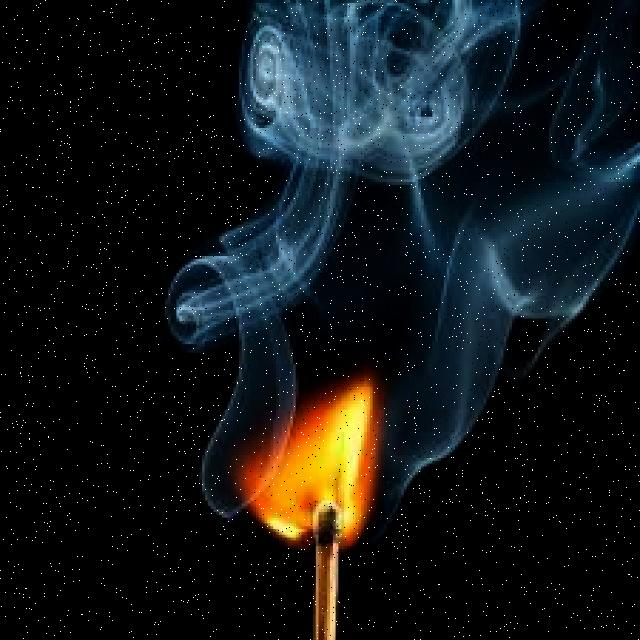fire: (230, 384, 399, 553)
smoke: (208, 13, 606, 392)
